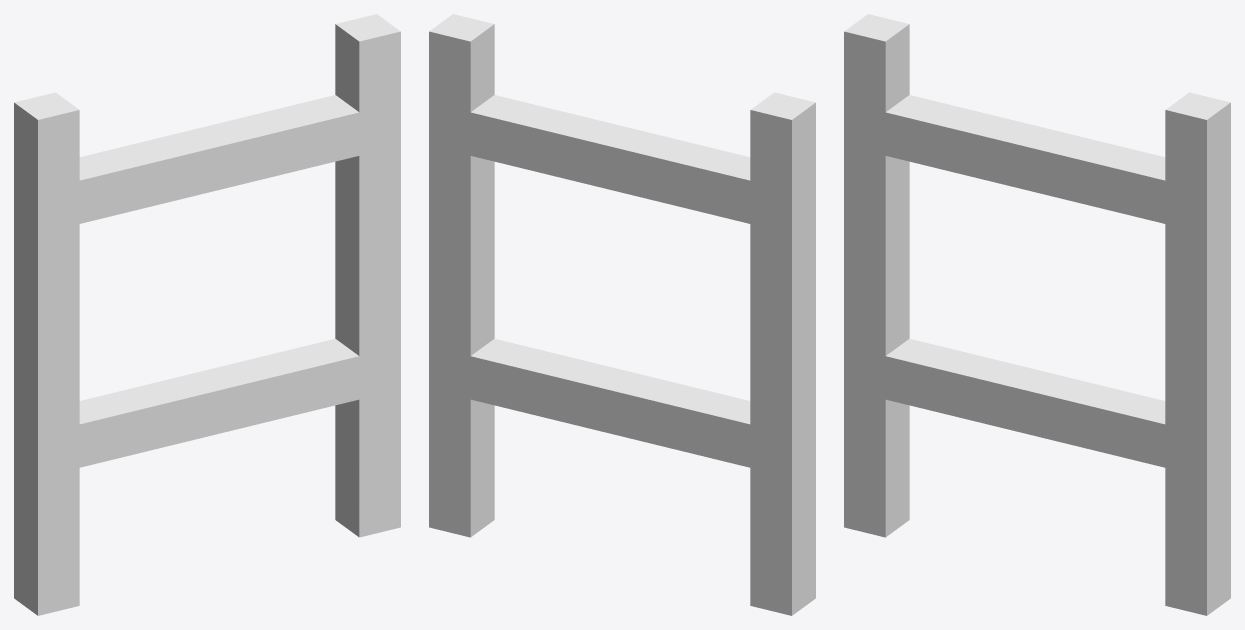
Rendered from Ladder.fbx.
The picture shows the model from 3 angles, left to right: view 1: azimuth 30°, elevation 25°; view 2: azimuth 150°, elevation 25°; view 3: azimuth 330°, elevation 25°; orthographic projection.
Parts seen in each view (by area): view 1: Cube; view 2: Cube; view 3: Cube.
Boxes of the visible parts, <box> form: Cube: <box>14,14,400,615</box>; Cube: <box>429,14,815,615</box>; Cube: <box>844,14,1230,615</box>.
Size of the model in its own units: 452 by 590 by 51.61.
